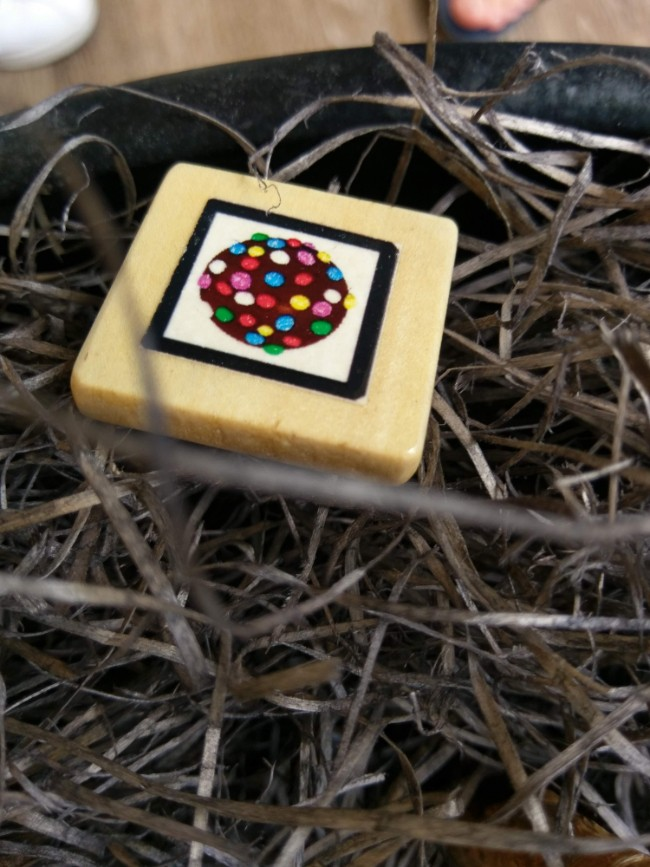cookie: (116, 179, 423, 414)
